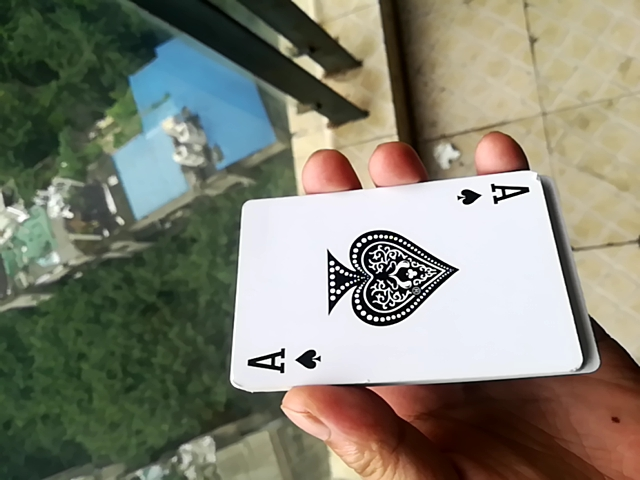ht a: (221, 174, 578, 398)
